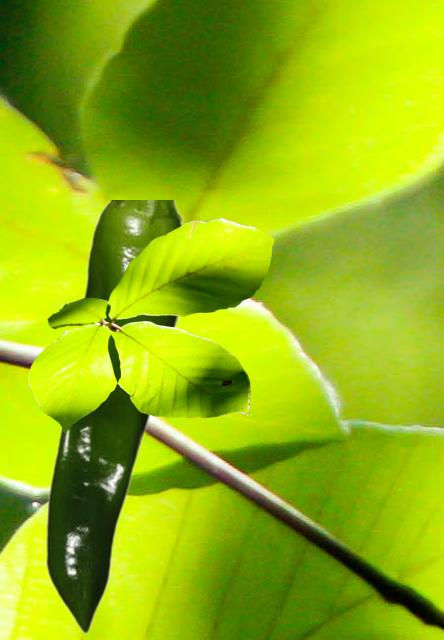green_chili: (44, 200, 184, 633)
